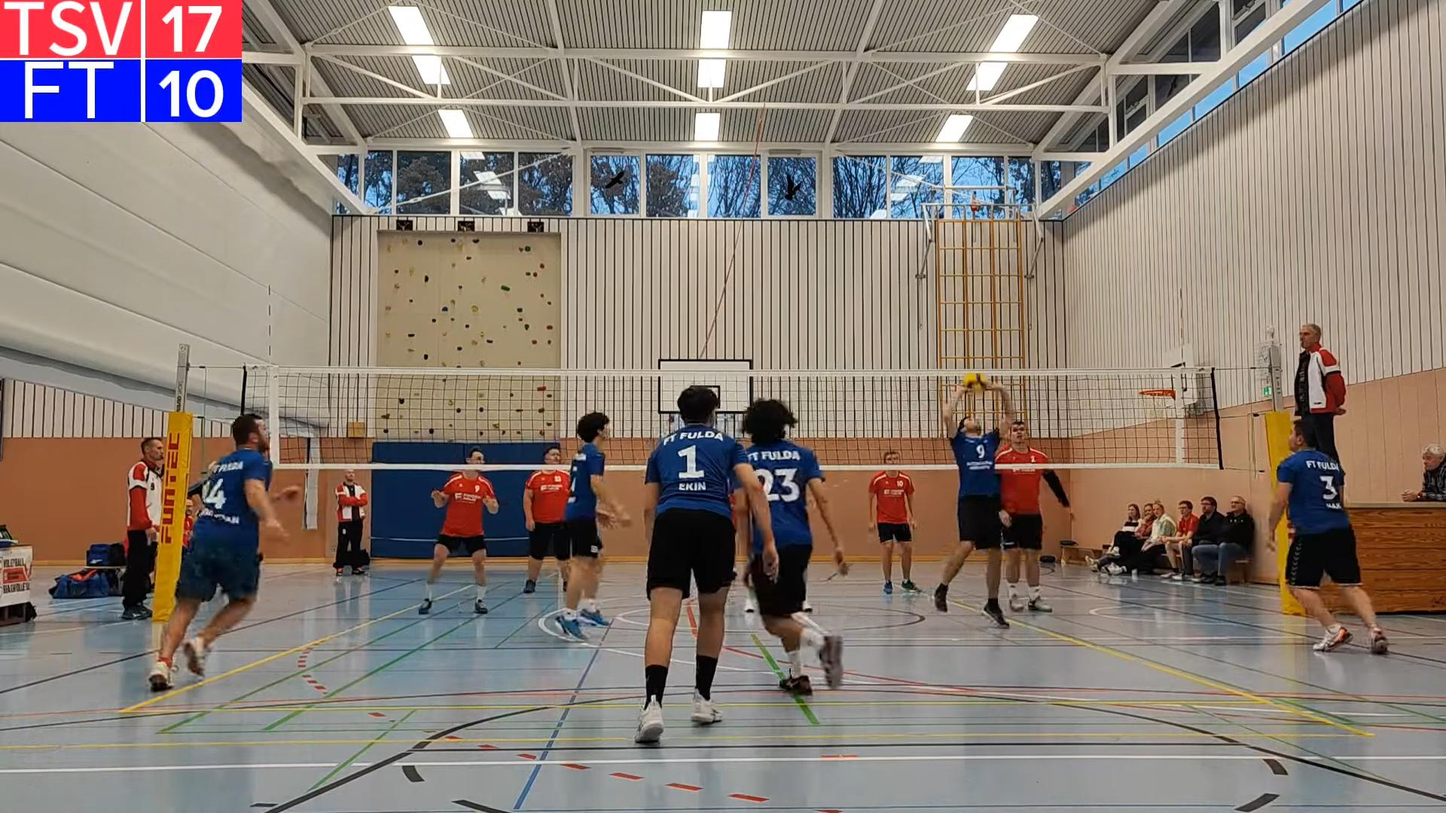alzata: (934, 384, 1019, 634)
